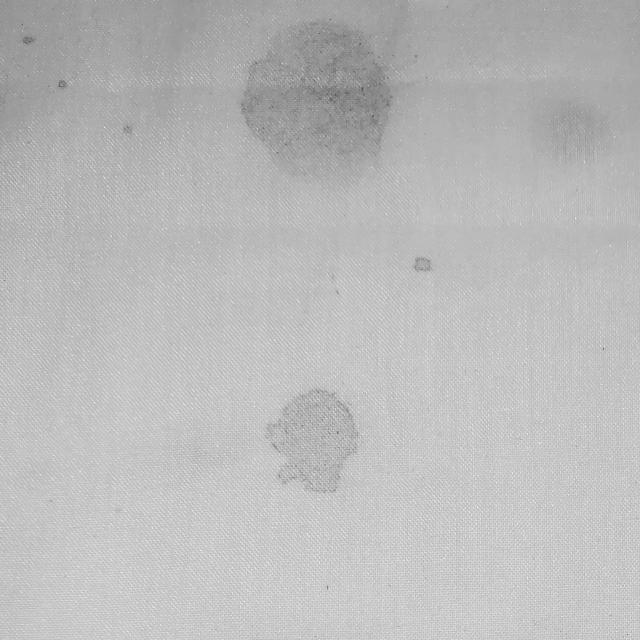Stain: (241, 20, 391, 181), (266, 390, 358, 493), (533, 99, 608, 164), (413, 257, 433, 272), (121, 124, 133, 134), (55, 79, 67, 89), (21, 35, 34, 43)
